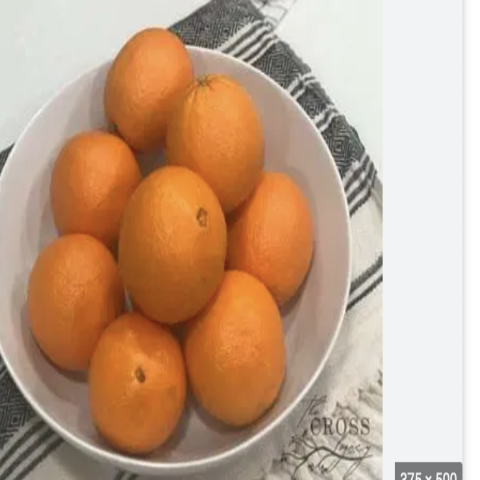orange: (115, 162, 231, 322), (206, 156, 333, 298), (179, 262, 286, 428), (82, 296, 187, 457), (11, 228, 127, 369), (100, 21, 200, 145)
